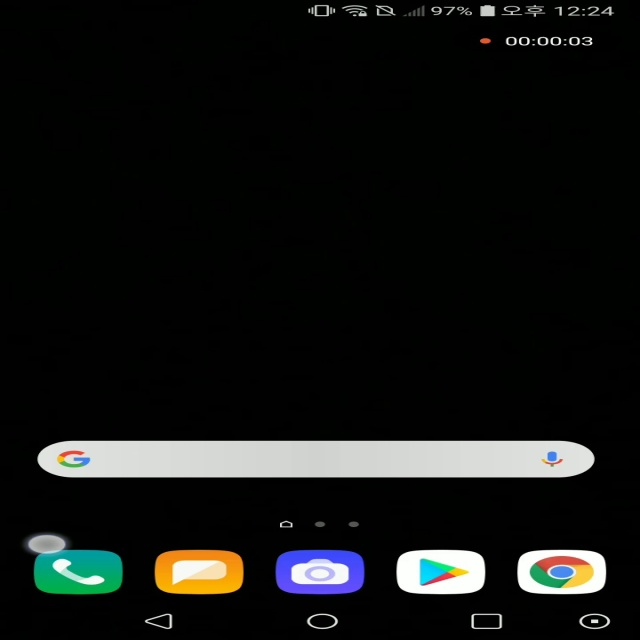Cursor: (27, 534, 72, 556)
